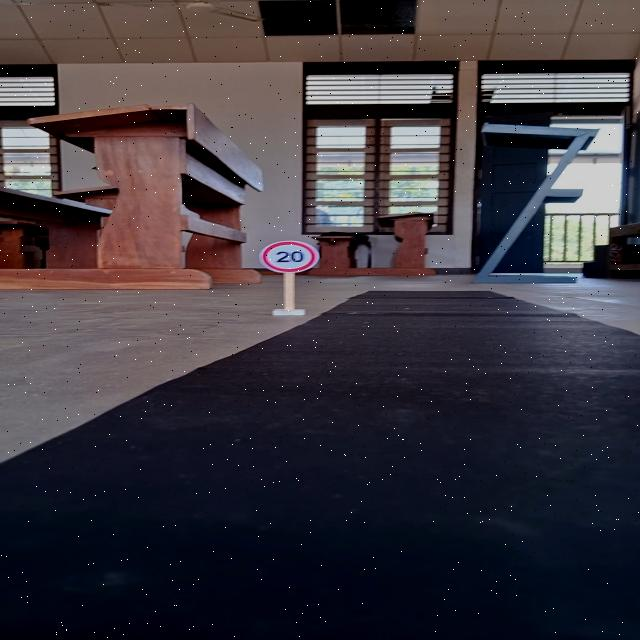Speed20: (254, 237, 326, 275)
